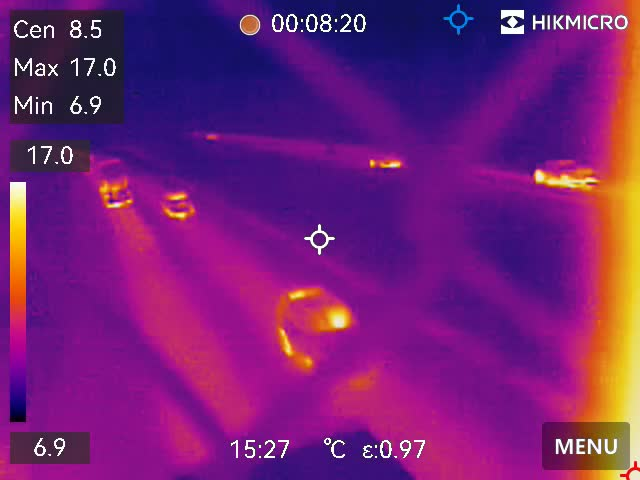heavyTruck: (87, 156, 136, 214)
vehicle: (274, 281, 384, 392), (151, 175, 196, 225), (529, 158, 599, 189), (362, 154, 401, 168)
